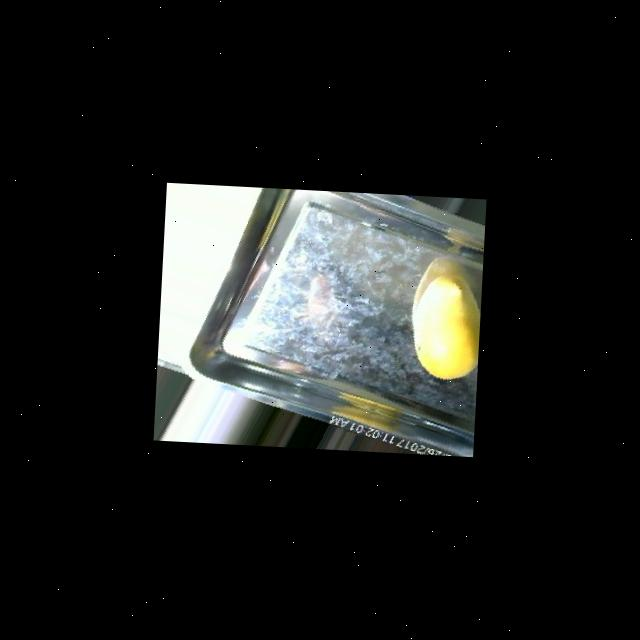Mango: (408, 256, 482, 382)
